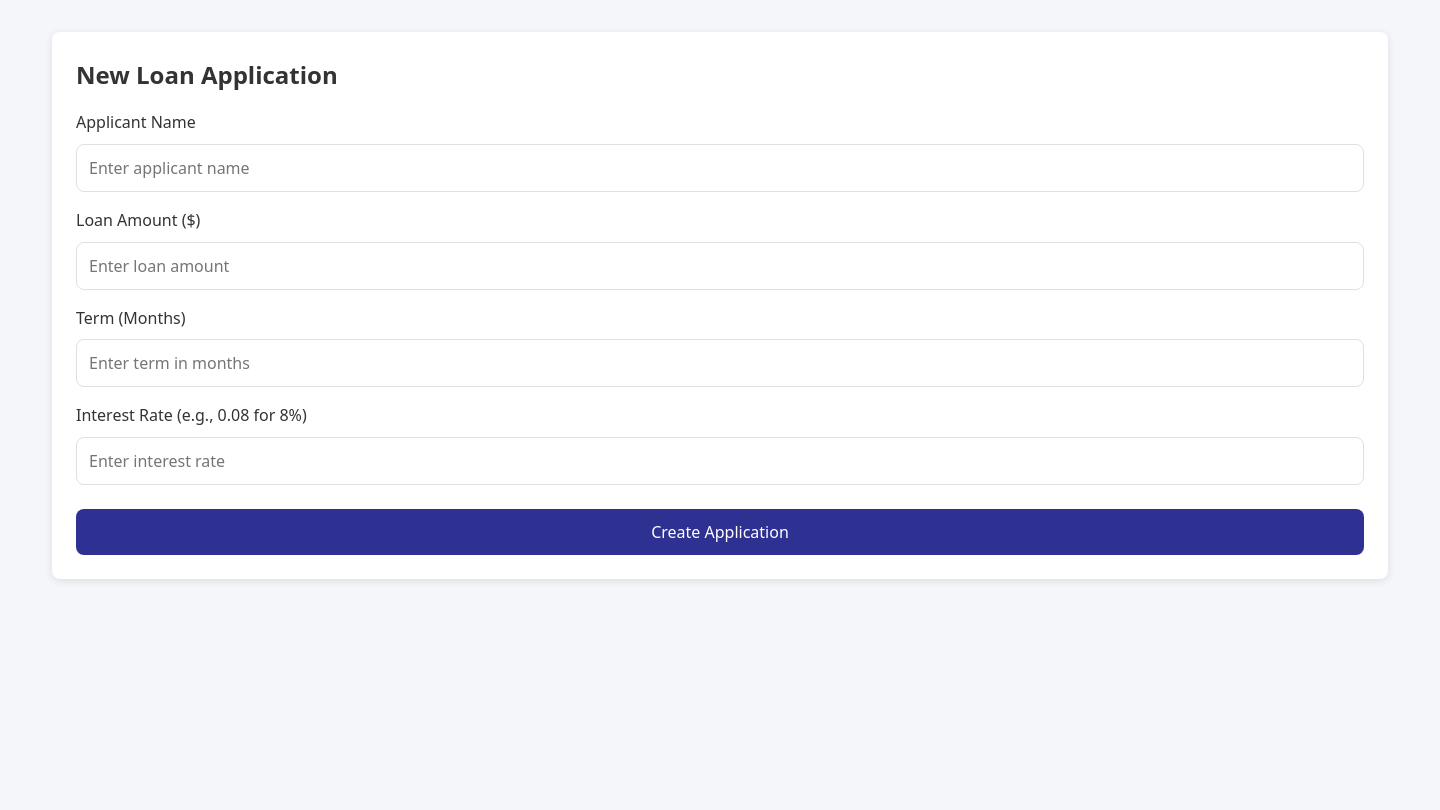
Test: LoanForm › validation › shows error when interest rate is negative
The width and height of the screenshot is (1440, 810).
Type "John Doe" into the field with id "applicantName".
click(720, 168); type("John Doe")  # box [76, 144, 1364, 192]
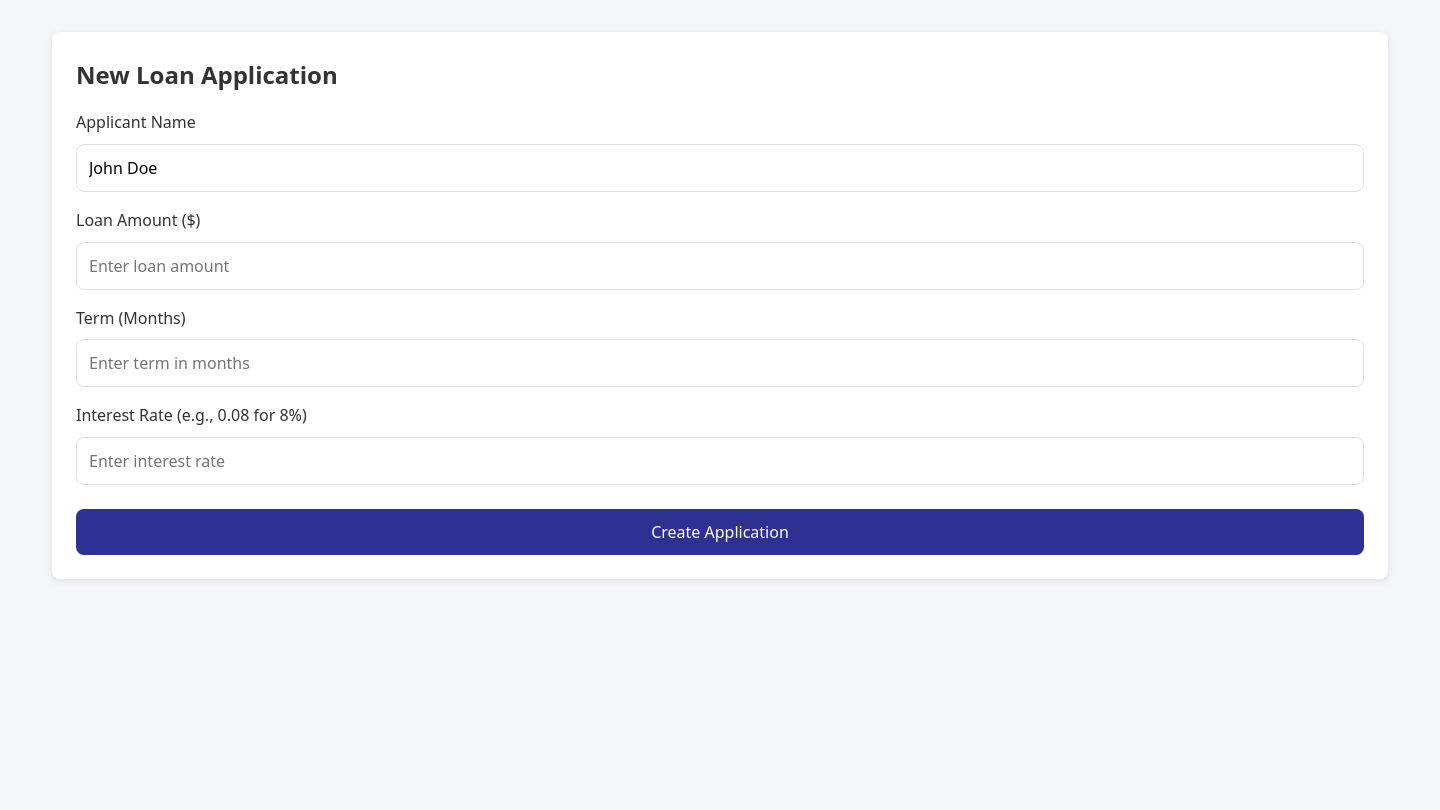
Type "10000" into the number field with id "amount".
click(720, 266); type("10000")  # box [76, 242, 1364, 290]
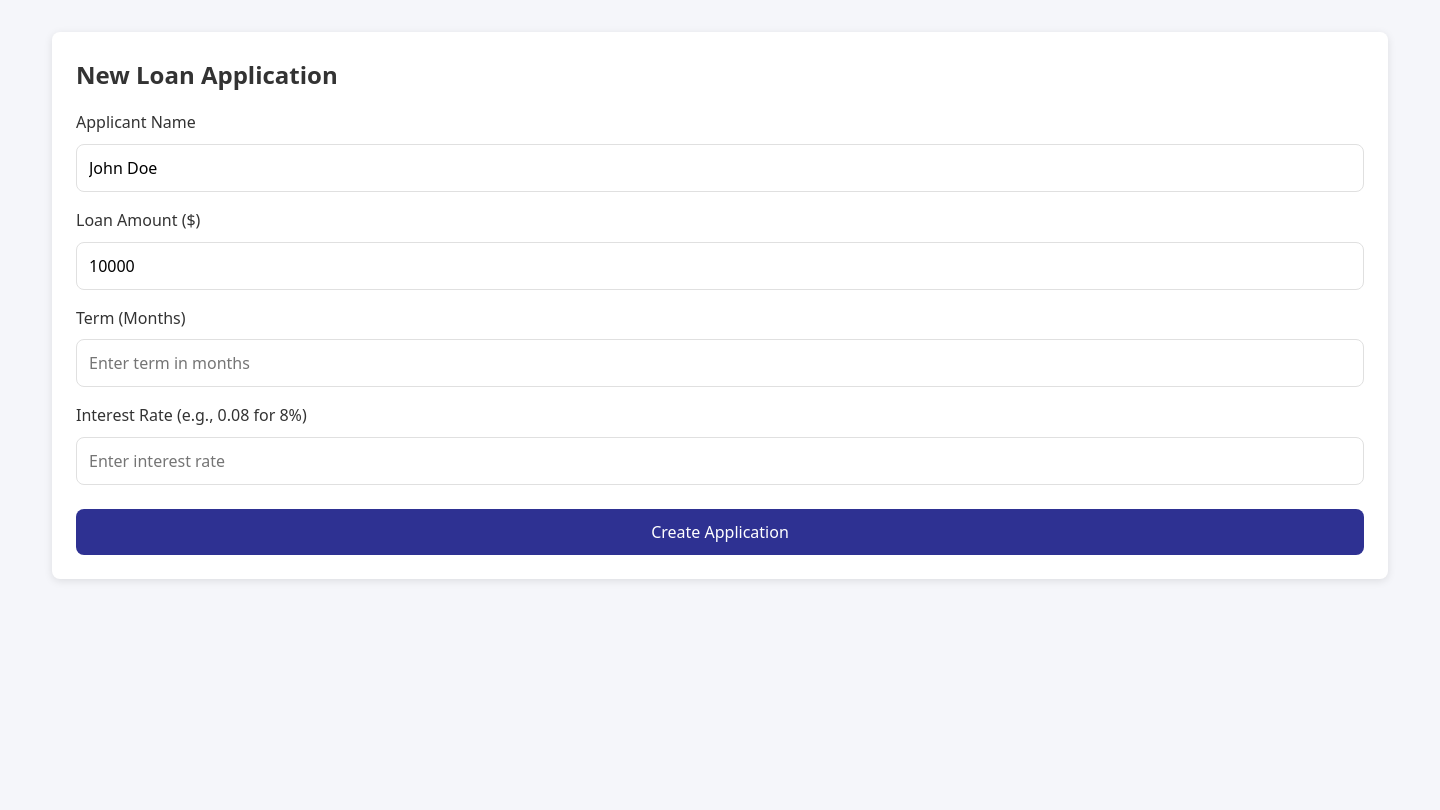
Type "12" into the number field with id "termMonths".
click(720, 363); type("12")  # box [76, 339, 1364, 387]
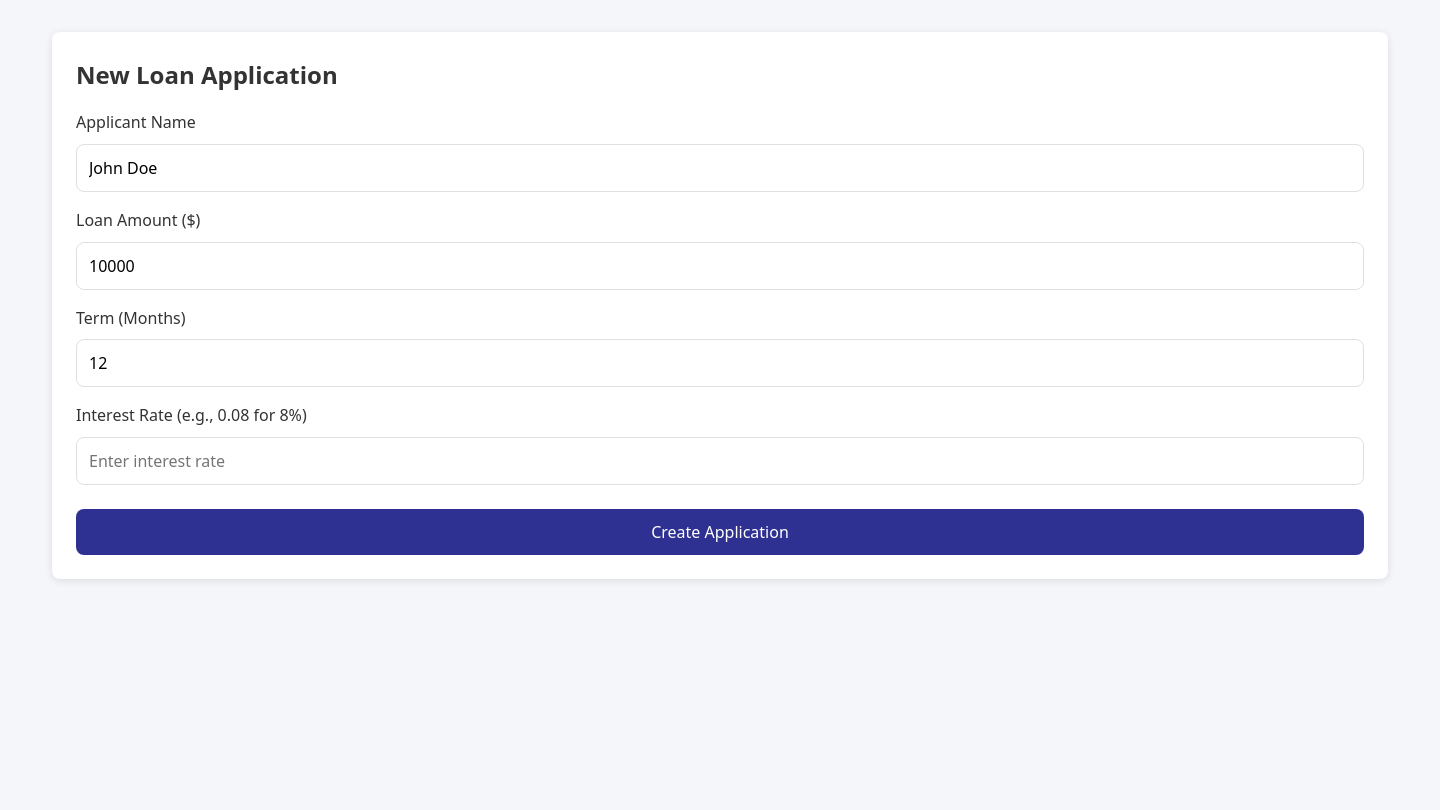
Type "-0.05" into the number field with id "interestRate".
click(720, 461); type("-0.05")  # box [76, 437, 1364, 485]
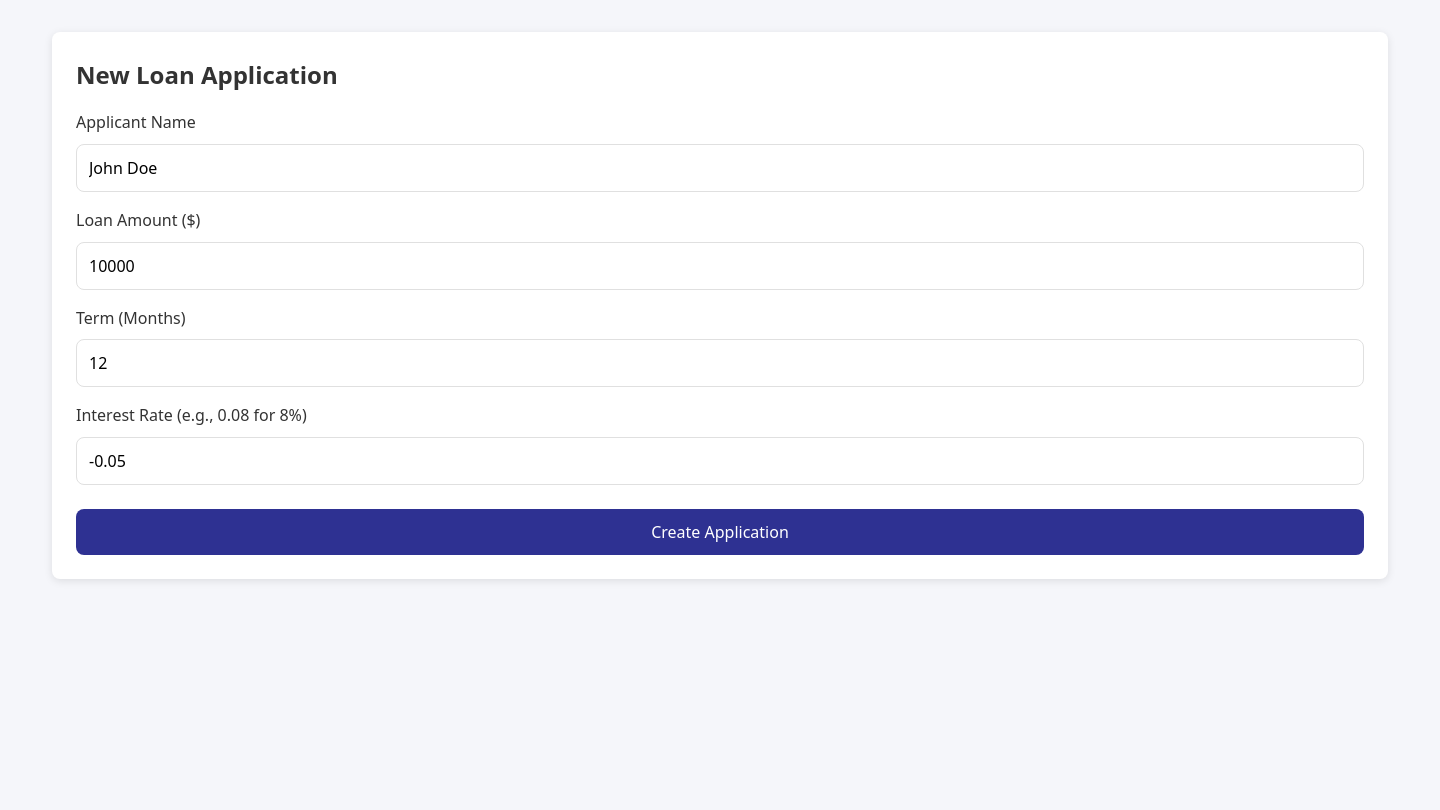
Submit the form, box [76, 110, 1364, 555]
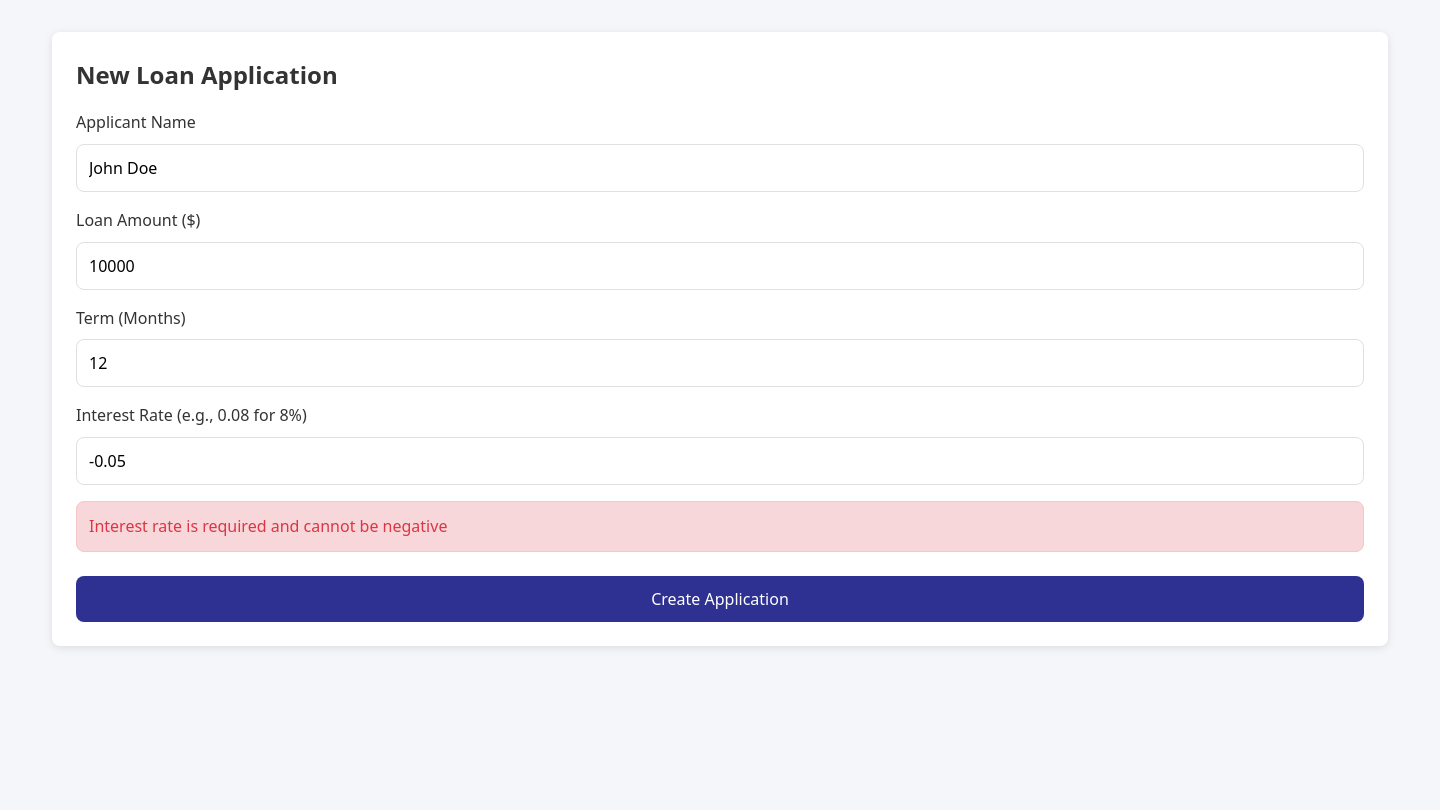
Now the text with class "error-message" reads "Interest rate is required and cannot be negative", box [89, 515, 447, 537]
